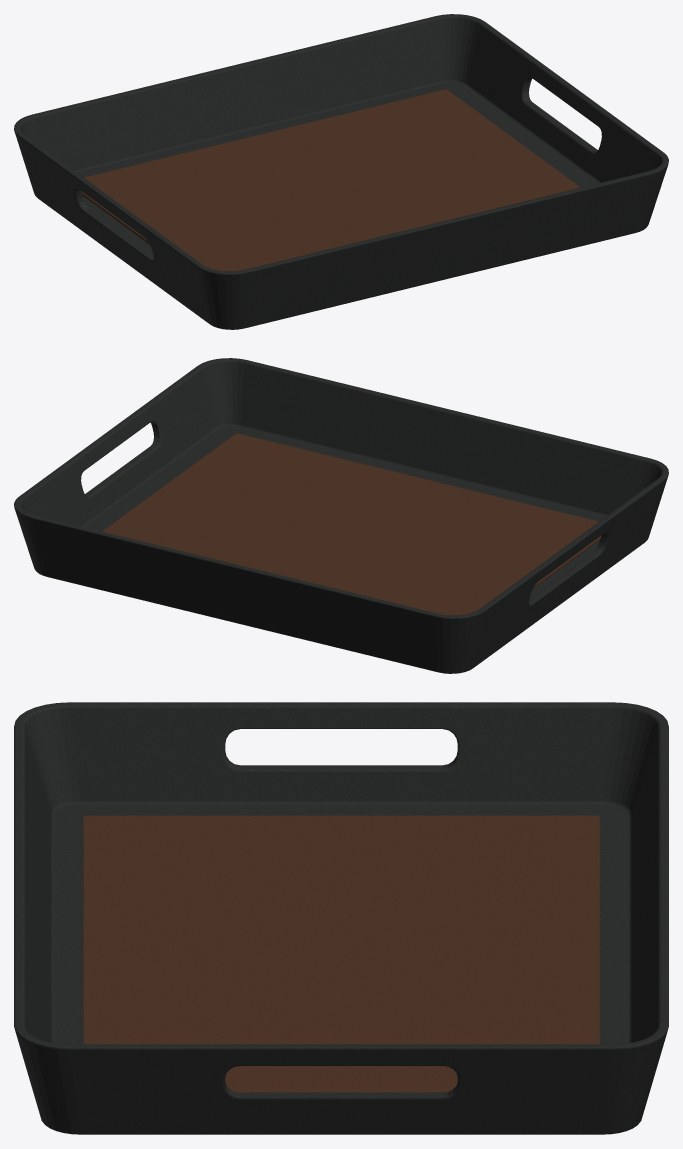
Rendered from mg01_hospitality_service_tray_lod0.glb.
3 views of the same model, one above another, from view 1: azimuth 30°, elevation 25°; view 2: azimuth 150°, elevation 25°; view 3: azimuth 270°, elevation 25° (orthographic). The views are drawn at different scales.
Visible parts, largest first — view 1: tray_molded_basin, tray_inset_non_slip_mat; view 2: tray_molded_basin, tray_inset_non_slip_mat; view 3: tray_molded_basin, tray_inset_non_slip_mat.
Part boxes in pixels (x1,y1,x2,y2): tray_molded_basin: (14,14,668,329); tray_inset_non_slip_mat: (81,89,580,271); tray_molded_basin: (14,358,668,673); tray_inset_non_slip_mat: (102,433,601,615); tray_molded_basin: (14,702,668,1134); tray_inset_non_slip_mat: (83,815,599,1092).
Bounding box in the file's own units: 0.3805 × 0.0508 × 0.3043.
Materials: 2 (2 with a texture image).
